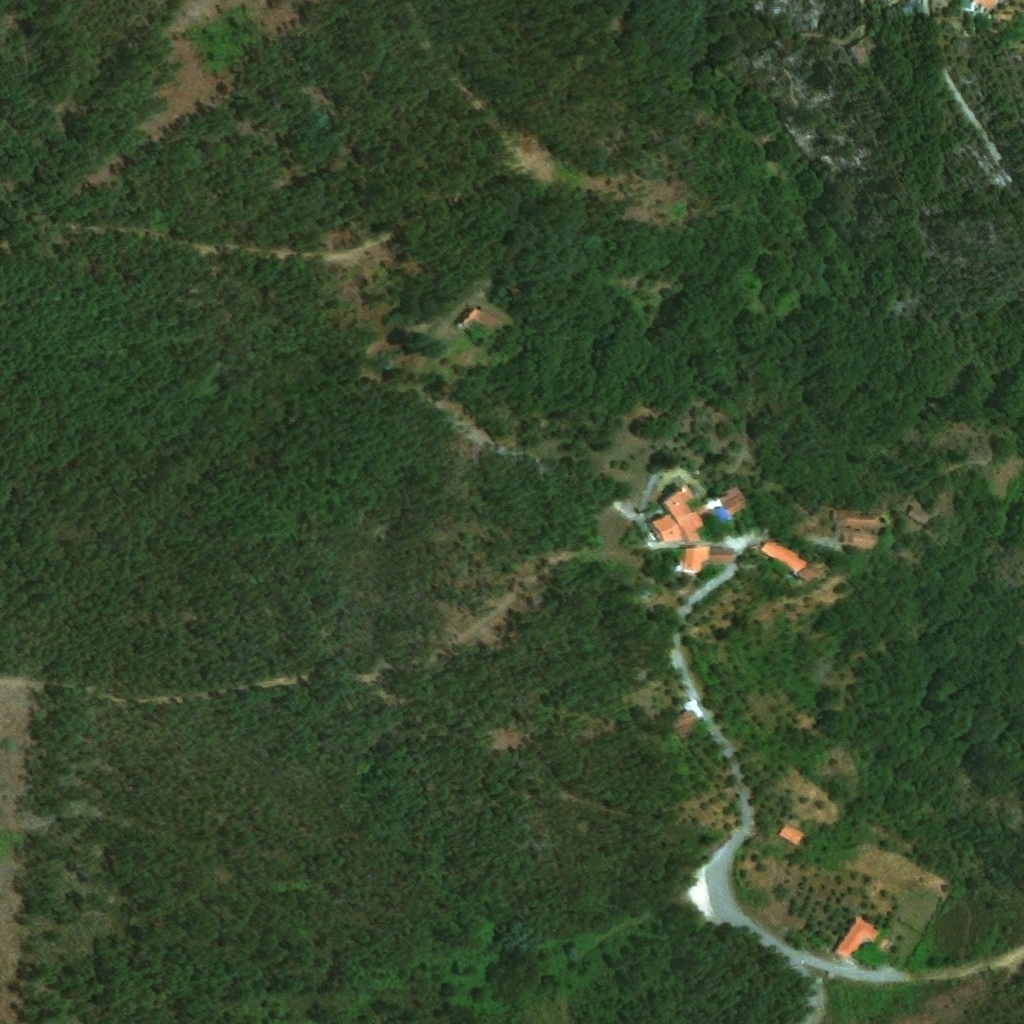0 no-damage: (645, 485, 749, 546), (757, 538, 820, 582), (829, 919, 879, 963), (674, 548, 736, 574), (459, 304, 503, 336), (847, 33, 882, 66), (665, 711, 695, 744), (830, 511, 879, 531), (843, 531, 880, 549), (906, 503, 932, 526), (775, 824, 801, 847), (749, 834, 764, 848)
4 un-classified: (966, 0, 998, 9)
